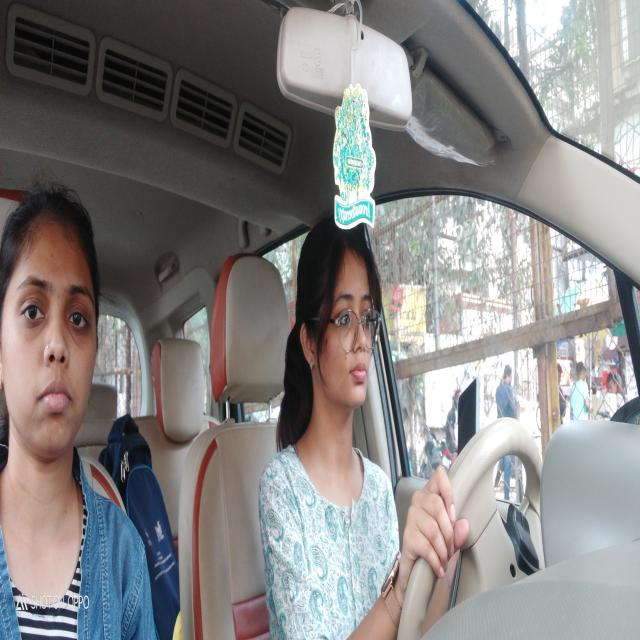mobile: (448, 368, 490, 472)
person: (0, 166, 103, 488), (296, 190, 390, 431)
